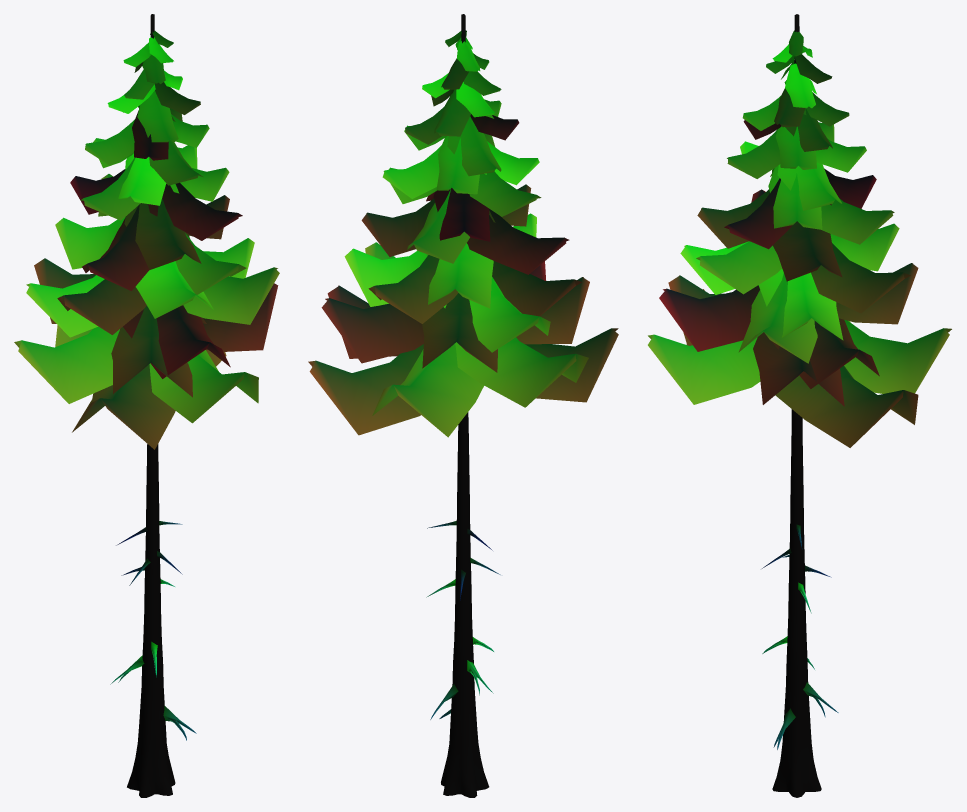
Rendered from M_Pine_6_9.fbx.
3 views of the same model, side by side, from view 1: azimuth 30°, elevation 25°; view 2: azimuth 150°, elevation 25°; view 3: azimuth 270°, elevation 25° (orthographic).
Parts seen in each view (by area): view 1: Tree_9; view 2: Tree_9; view 3: Tree_9.
Boxes of the visible parts, <box> form: Tree_9: <box>14,14,279,797</box>; Tree_9: <box>308,14,618,797</box>; Tree_9: <box>648,14,951,797</box>.
Bounding box in the file's own units: 1023 × 2942 × 1052.
